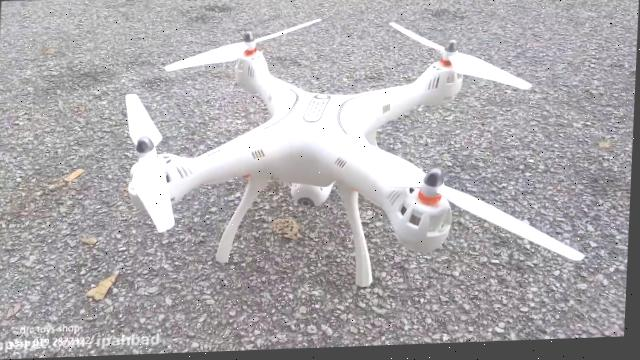drone: (114, 9, 599, 298)
